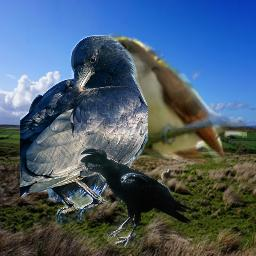Crow: (20, 35, 148, 223), (77, 147, 193, 248)
Cuckoo: (77, 25, 247, 165)
